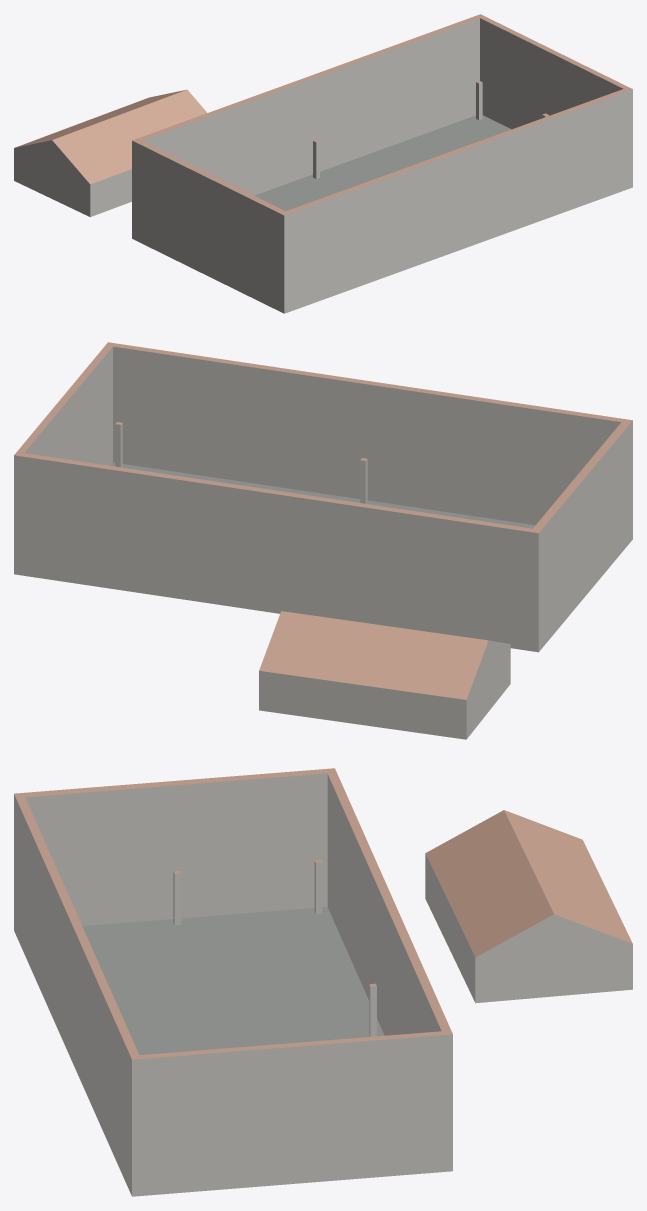
File: gridID_33.dae
3 renders of one model, top to bottom at view 1: azimuth 30°, elevation 25°; view 2: azimuth 150°, elevation 25°; view 3: azimuth 270°, elevation 25°, orthographic. The views are drawn at different scales.
Parts seen in each view (by area): view 1: model_gridID_33_w390383621, model_gridID_33_w390027484; view 2: model_gridID_33_w390383621, model_gridID_33_w390027484; view 3: model_gridID_33_w390383621, model_gridID_33_w390027484.
Part boxes in pixels (<box>): model_gridID_33_w390383621: <box>132,14,632,313</box>; model_gridID_33_w390027484: <box>14,89,206,217</box>; model_gridID_33_w390383621: <box>14,342,632,652</box>; model_gridID_33_w390027484: <box>259,611,510,739</box>; model_gridID_33_w390383621: <box>14,768,452,1196</box>; model_gridID_33_w390027484: <box>425,810,632,1003</box>.
Size of the model in its own units: 36.54 by 30.7 by 7.5.
